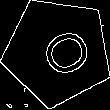O_SW: (25, 21, 90, 83)
